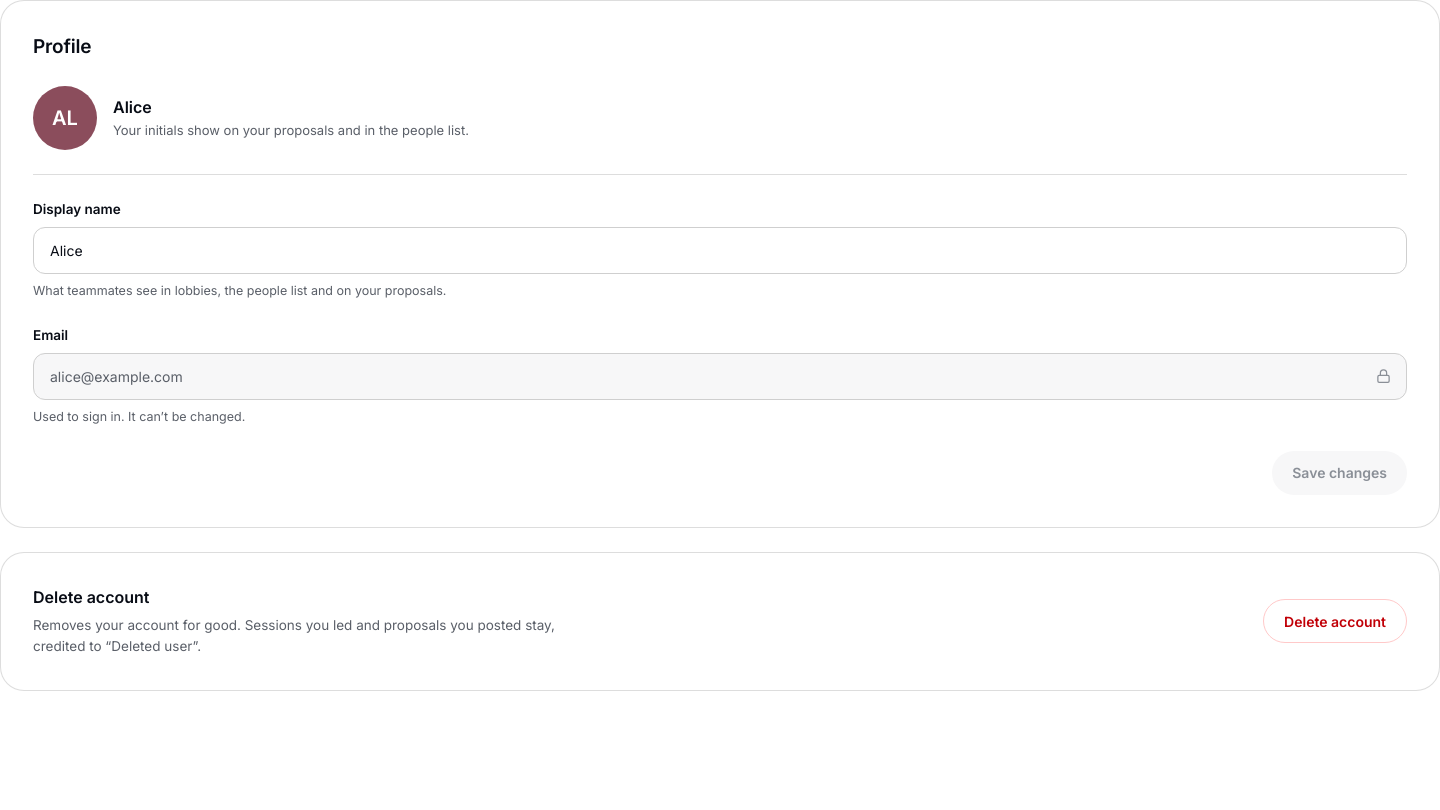
Test: ProfilePage › updates the name optimistically and rolls back on server failure
Replace the text in the field labelled "Display name" with "Bob": (720, 250) [33, 227, 1407, 274]
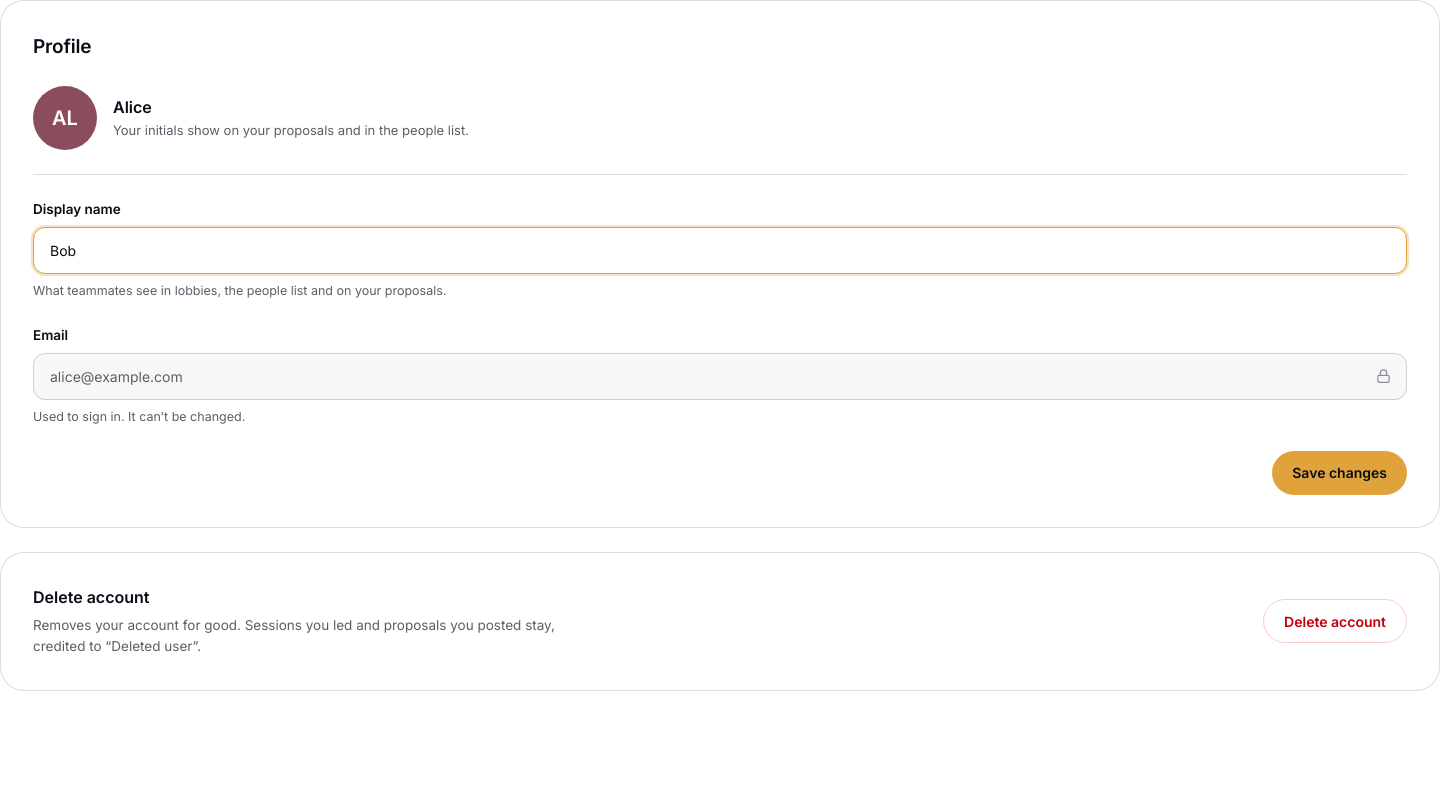
Click the button "Save changes": (1340, 472) [1272, 450, 1407, 494]
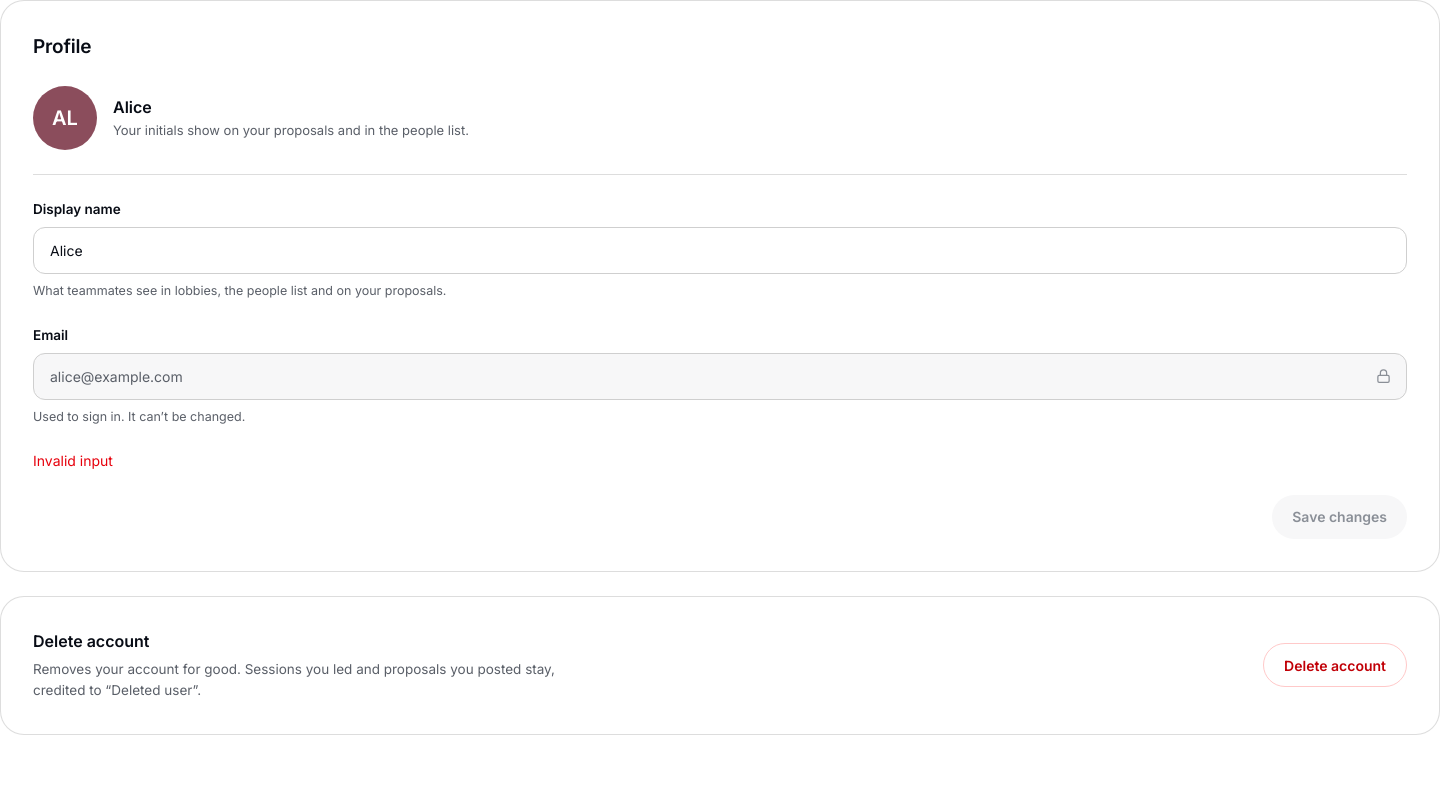
Now the field labelled "Display name" holds "Alice", box [33, 227, 1407, 274]
Now the message "Invalid input" is shown, box [33, 452, 113, 468]
